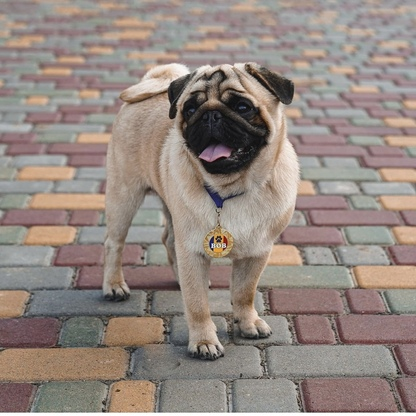Pug: (96, 56, 305, 364)
